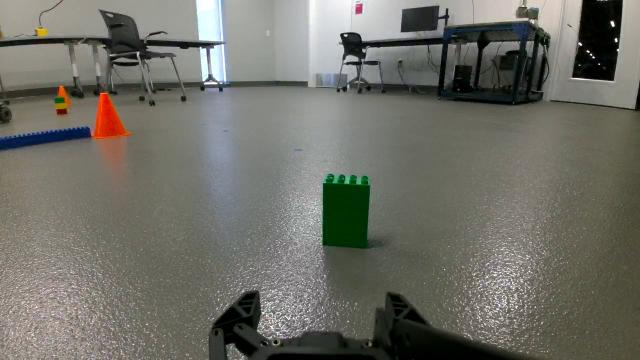lego: (306, 165, 387, 261)
